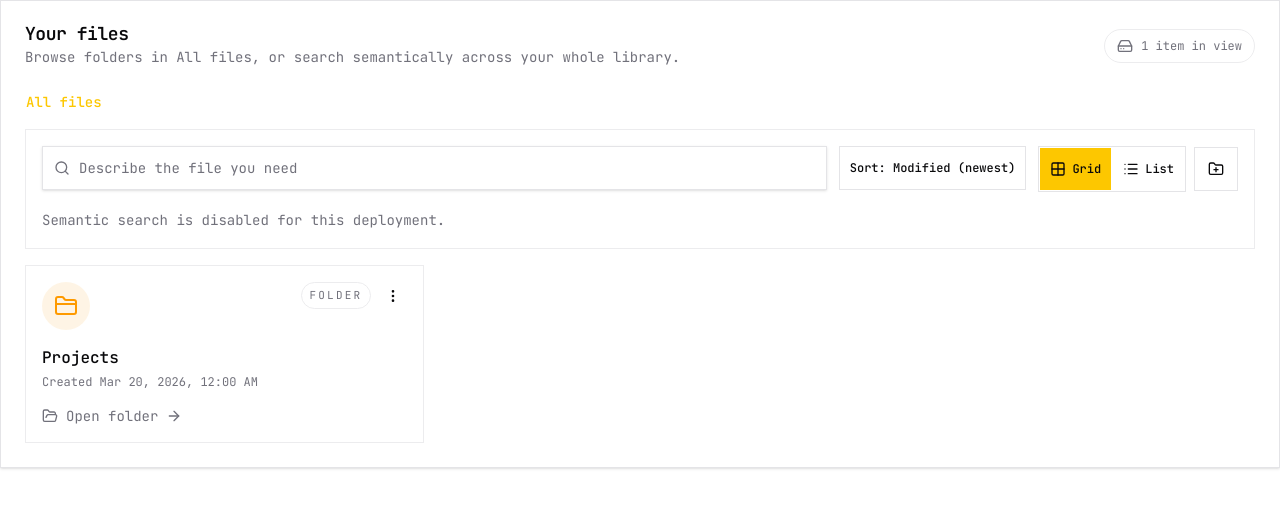
Test: FilesLibrary › opens a folder when its name is clicked
Click the button "Projects" at (80, 358), box x1=42 y1=346 x2=119 y2=370
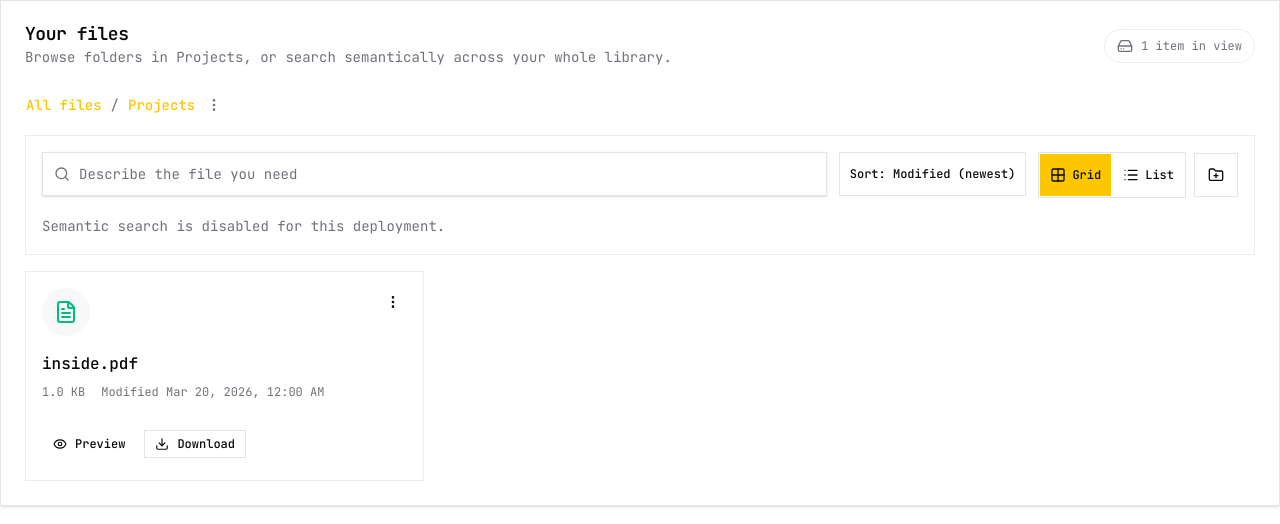
Check: the button "inside.pdf" is shown, box x1=42 y1=352 x2=138 y2=376
